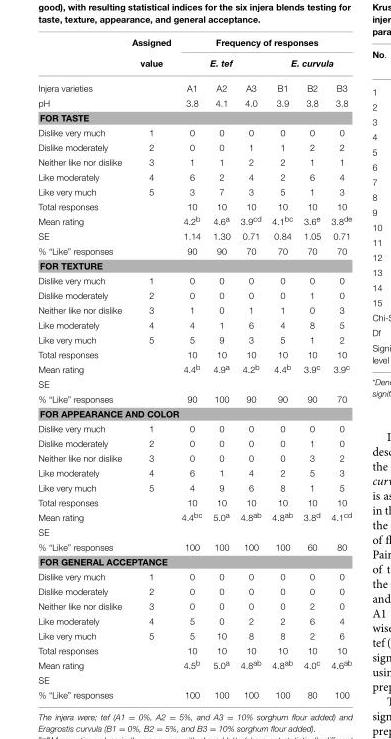table: (37, 37, 351, 699)
table column: (37, 37, 126, 699), (126, 37, 175, 699), (265, 37, 297, 699), (175, 37, 206, 699), (234, 37, 265, 699), (206, 37, 234, 699), (297, 37, 325, 699), (325, 37, 351, 699)
table column header: (37, 37, 351, 95)
table projected row header: (37, 110, 351, 125), (37, 258, 351, 273), (37, 376, 351, 391), (37, 406, 351, 421), (37, 524, 351, 539), (37, 554, 351, 569), (37, 672, 351, 687)
table row: (37, 52, 351, 75), (37, 75, 351, 95), (37, 212, 351, 228), (37, 360, 351, 376), (37, 508, 351, 524), (37, 656, 351, 672), (37, 37, 351, 52), (37, 95, 351, 110), (37, 110, 351, 125), (37, 125, 351, 140), (37, 154, 351, 169), (37, 169, 351, 184), (37, 184, 351, 199), (37, 228, 351, 243), (37, 243, 351, 258), (37, 258, 351, 273), (37, 273, 351, 288), (37, 302, 351, 317), (37, 317, 351, 332), (37, 332, 351, 347), (37, 376, 351, 391), (37, 391, 351, 406), (37, 406, 351, 421), (37, 421, 351, 436), (37, 450, 351, 465), (37, 465, 351, 480), (37, 480, 351, 495), (37, 524, 351, 539), (37, 539, 351, 554), (37, 554, 351, 569), (37, 569, 351, 584), (37, 598, 351, 613), (37, 613, 351, 628), (37, 628, 351, 643), (37, 672, 351, 687), (37, 140, 351, 154), (37, 288, 351, 302), (37, 436, 351, 450), (37, 584, 351, 598), (37, 199, 351, 212), (37, 347, 351, 360), (37, 495, 351, 508), (37, 643, 351, 656), (37, 687, 351, 699)
table spanning cell: (37, 37, 126, 95), (126, 37, 175, 95), (175, 37, 351, 52), (175, 52, 265, 75), (265, 52, 351, 75)
